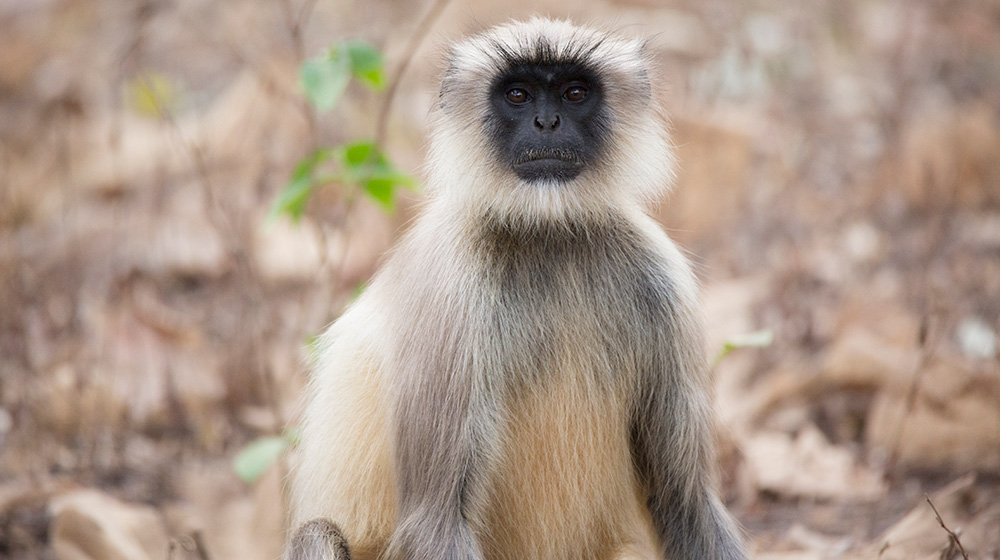monkey: (274, 21, 774, 560)
